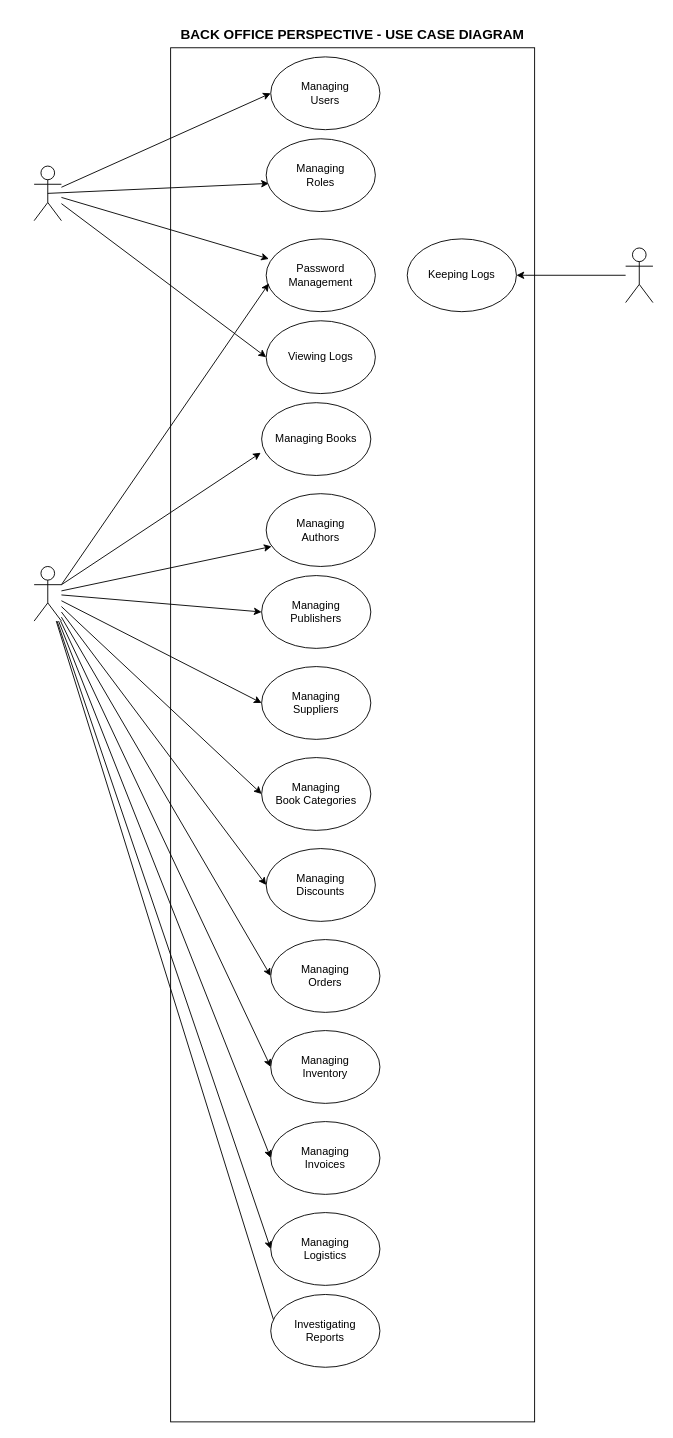
This 673x1438 diagram has some shape labels left out. The centre of each missing label's shape, as x and y in pixels:
Administrator: point 47,193
System: point 639,275
User: point 47,593
